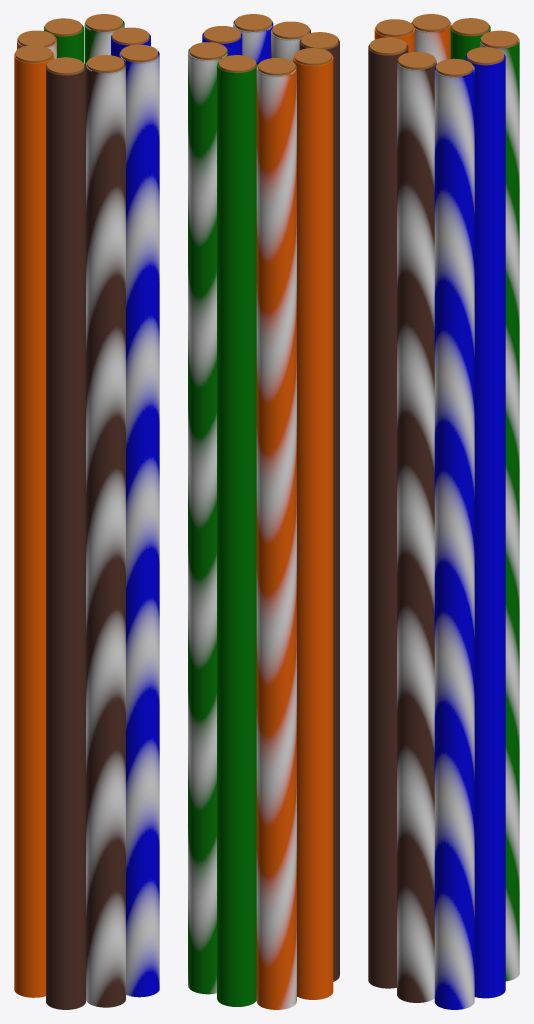
File: Cable.fbx
The picture shows the model from 3 angles, left to right: view 1: azimuth 30°, elevation 25°; view 2: azimuth 150°, elevation 25°; view 3: azimuth 330°, elevation 25°; orthographic projection.
Visible parts, largest first — view 1: Coklat-Putih, Coklat, Biru-Putih, Oren, Hijau-Putih, Hijau, Tembaga.009, Tembaga.015, Tembaga.012, Tembaga.011, Tembaga.013, Tembaga.010 (+2 smaller); view 2: Oren-Putih, Hijau, Oren, Hijau-Putih, Coklat, Biru-Putih, Coklat-Putih, Tembaga.012, Tembaga.013, Tembaga.009, Tembaga.011, Tembaga.010 (+3 smaller); view 3: Biru-Putih, Coklat-Putih, Biru, Coklat, Hijau-Putih, Oren-Putih, Hijau, Tembaga.015, Tembaga.009, Tembaga.010, Tembaga.012, Tembaga.011 (+3 smaller).
Part boxes in pixels (box(x1,y1,x2,y2)): Coklat-Putih: box(86, 61, 125, 1007); Coklat: box(46, 64, 85, 1009); Biru-Putih: box(119, 51, 159, 997); Oren: box(14, 52, 54, 997); Hijau-Putih: box(84, 21, 124, 65); Hijau: box(44, 25, 83, 62); Tembaga.009: box(15, 45, 52, 63); Tembaga.015: box(47, 57, 84, 75); Tembaga.012: box(120, 44, 158, 62); Tembaga.011: box(112, 27, 149, 45); Tembaga.013: box(45, 18, 82, 36); Tembaga.010: box(85, 14, 122, 31); Oren-Putih: box(256, 65, 296, 1009); Hijau: box(217, 61, 257, 1006); Oren: box(293, 54, 333, 999); Hijau-Putih: box(188, 49, 228, 994); Coklat: box(299, 38, 339, 981); Biru-Putih: box(233, 20, 273, 64); Coklat-Putih: box(271, 28, 310, 61); Tembaga.012: box(234, 14, 271, 31); Tembaga.013: box(218, 55, 255, 72); Tembaga.009: box(294, 48, 331, 65); Tembaga.011: box(203, 26, 240, 43); Tembaga.010: box(189, 42, 226, 59); Biru-Putih: box(434, 66, 474, 1009); Coklat-Putih: box(397, 59, 436, 1002); Biru: box(465, 54, 505, 998); Coklat: box(368, 44, 408, 988); Hijau-Putih: box(479, 37, 519, 981); Oren-Putih: box(411, 21, 451, 63); Hijau: box(450, 25, 490, 60); Tembaga.015: box(369, 37, 406, 55); Tembaga.009: box(376, 19, 413, 37); Tembaga.010: box(481, 30, 518, 48); Tembaga.012: box(436, 58, 473, 76); Tembaga.011: box(467, 47, 504, 65).
Bounding box in the file's own units: 0.019 × 0.0174 × 0.1327.
Materials: 16 (4 with a texture image).
